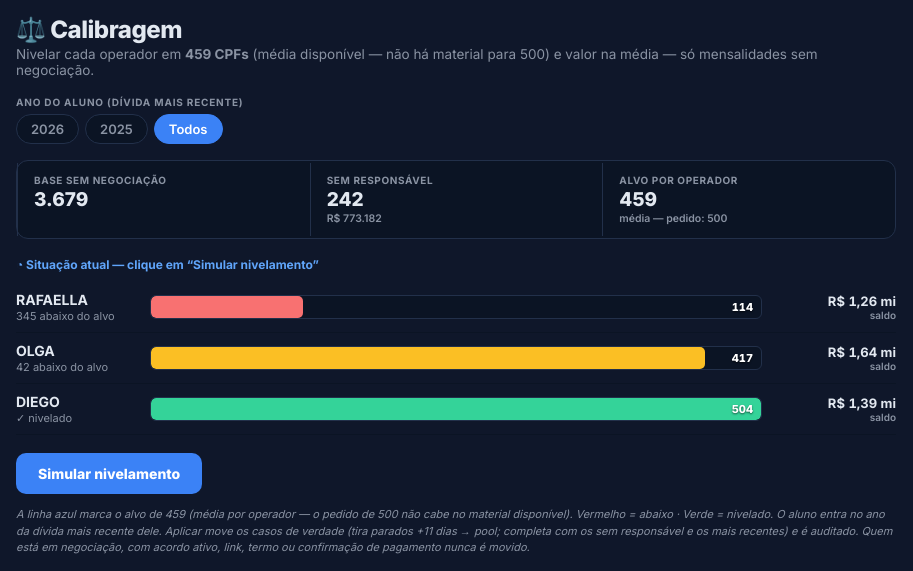
Test: Calibragem — nivelamento › simula pelo alvo efetivo e explica de onde vêm os casos
The image size is (913, 571).
Expected: the text "RAFAELLA" is shown, [16,291,88,308]
What coordinates should you click on to do the following:
click the button "2026"
I would click on:
 (48, 129)
Its box is [16,114,79,144].
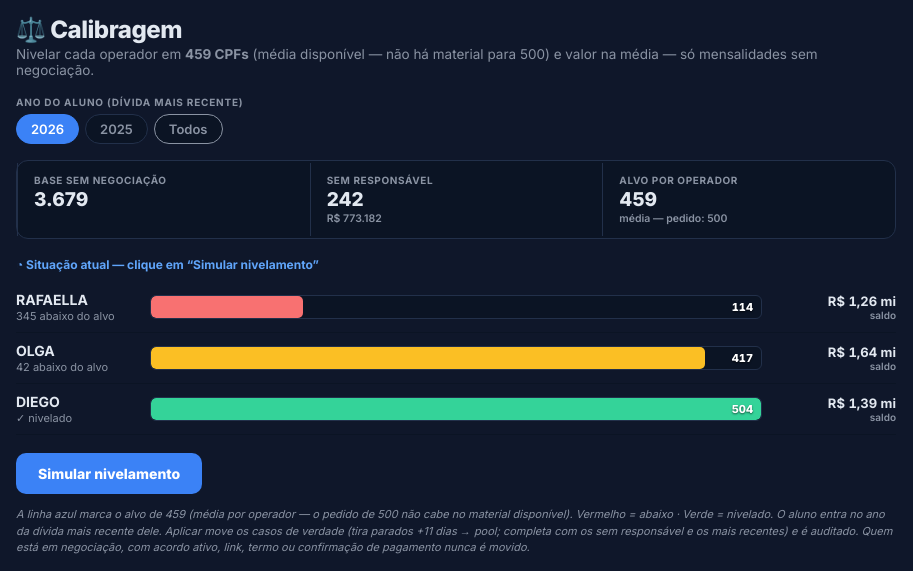
Expected: the text "RAFAELLA" is shown, [16,291,88,308]
What coordinates should you click on to do the following:
click the button "Simular nivelamento"
I would click on:
 (109, 474)
Its box is [16,453,202,494].
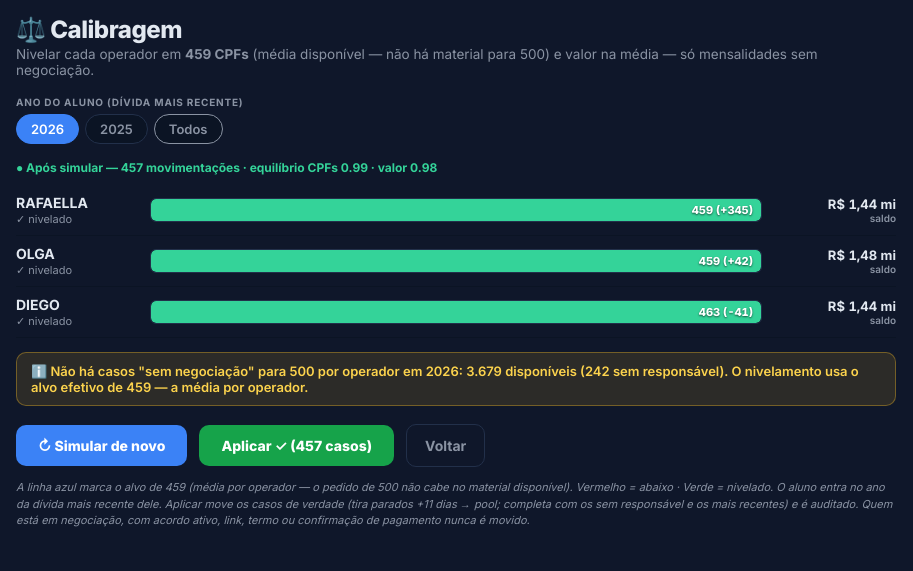
Now the text "457 movimentações" is shown, box [16,160,437,175]
Now the text "459 (+345)" is shown, box [692,203,753,217]
Now the text "242 sem responsável" is shown, box [31,363,859,395]
